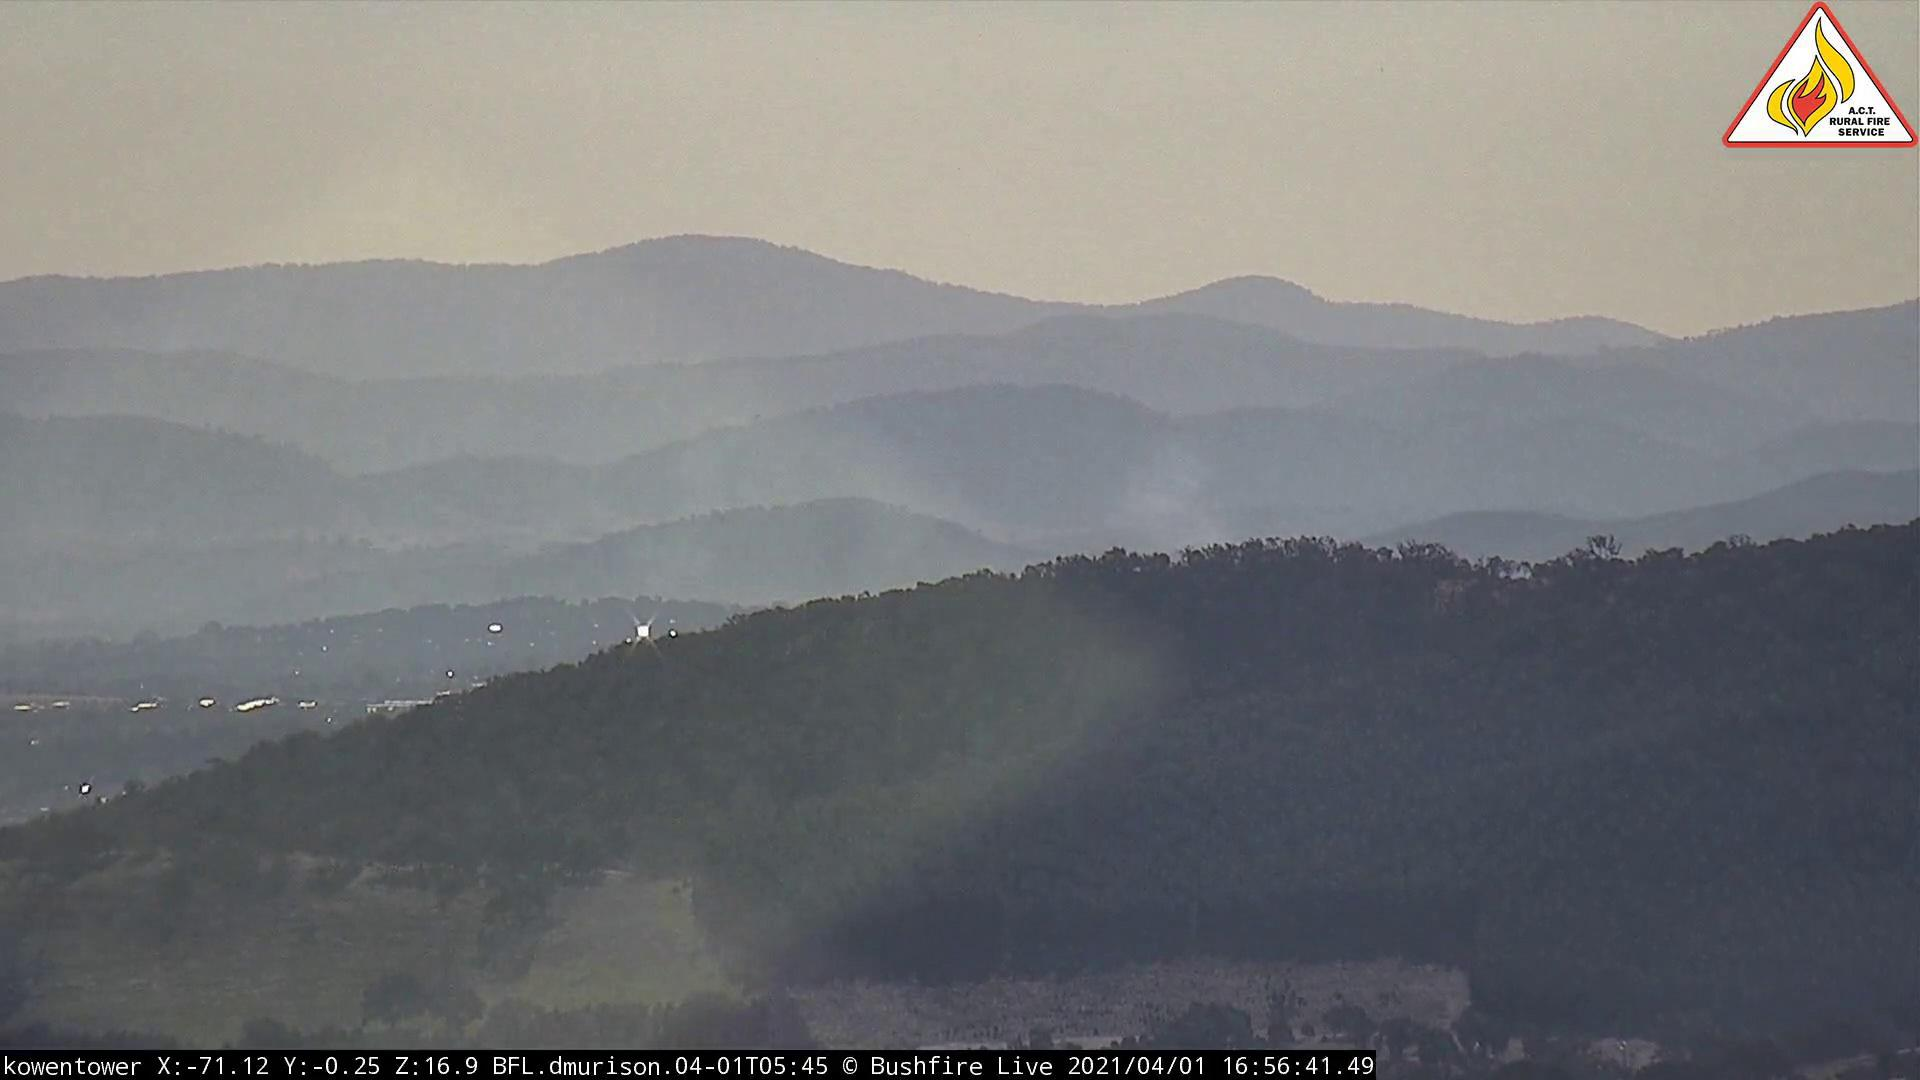instance_salient_object: (691, 417, 1225, 658)
